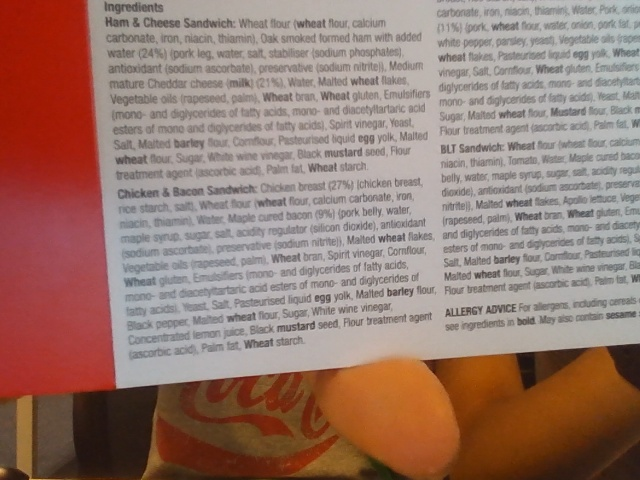egg: (313, 292, 333, 307)
wheat: (124, 277, 159, 291), (114, 154, 148, 168), (262, 92, 294, 103)
